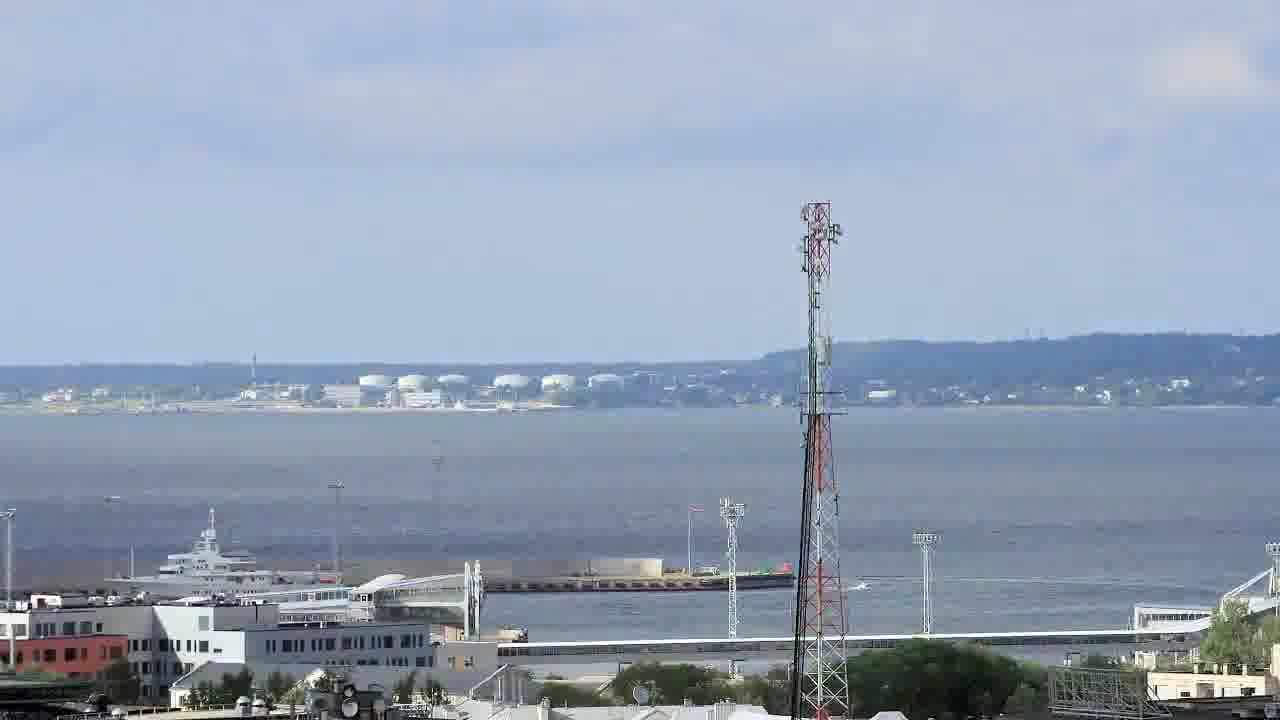type-3: (81, 511, 395, 602)
